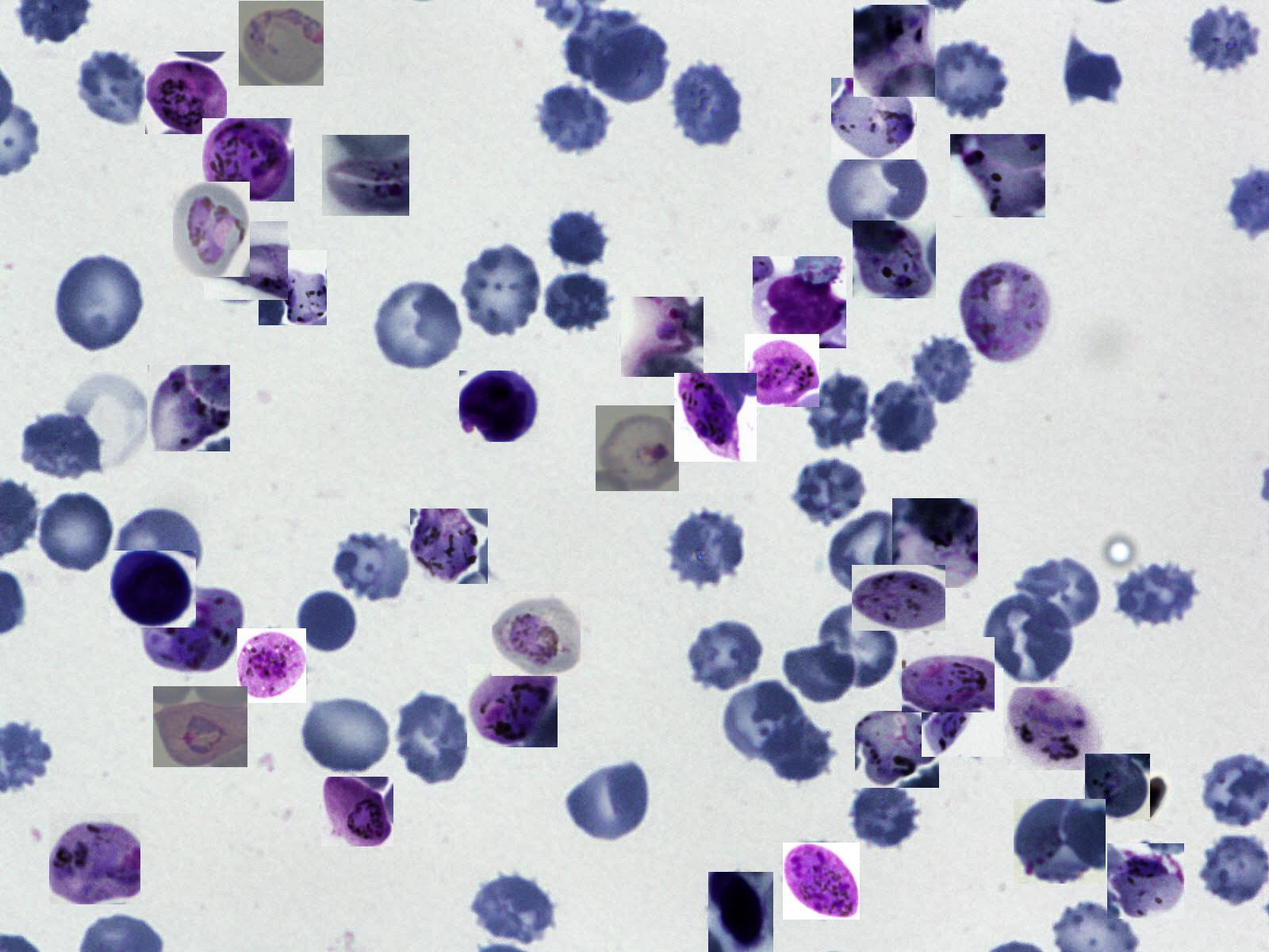Infected: (960, 259, 1052, 364), (142, 585, 246, 677), (753, 256, 846, 348), (49, 813, 140, 904), (1006, 687, 1105, 770), (950, 134, 1045, 217), (1014, 799, 1106, 884), (892, 498, 978, 588), (202, 118, 294, 202), (467, 664, 558, 747), (154, 686, 247, 767), (492, 592, 581, 676), (853, 6, 935, 97), (674, 373, 757, 462), (173, 182, 250, 277), (239, 1, 324, 86), (922, 668, 1003, 757), (596, 405, 679, 491), (148, 365, 230, 451), (322, 135, 409, 216), (902, 637, 995, 712), (831, 78, 917, 159), (145, 52, 227, 134), (621, 298, 704, 378), (204, 221, 288, 300), (110, 551, 196, 628), (855, 711, 939, 788), (853, 221, 936, 298), (852, 565, 945, 631), (783, 843, 860, 919), (1107, 843, 1184, 919), (410, 509, 488, 584), (459, 370, 539, 442), (745, 334, 819, 407), (708, 872, 773, 952), (237, 628, 306, 703), (259, 250, 327, 325), (322, 777, 394, 846), (1085, 754, 1150, 820)
Uninfected: (824, 140, 932, 236), (52, 252, 146, 354), (370, 278, 466, 374), (457, 242, 546, 340), (113, 505, 201, 601), (297, 691, 394, 777), (827, 508, 917, 598), (814, 601, 902, 693), (723, 678, 810, 767), (563, 759, 653, 845), (393, 691, 474, 786), (980, 599, 1072, 681), (925, 36, 1013, 121), (665, 504, 749, 588), (591, 24, 673, 106), (1016, 554, 1103, 631), (469, 869, 557, 945), (684, 614, 768, 693), (71, 44, 151, 126), (39, 491, 117, 574), (564, 10, 650, 85), (670, 61, 744, 146), (20, 410, 105, 483), (535, 81, 615, 158), (799, 370, 874, 450), (791, 455, 872, 528), (1114, 561, 1204, 624), (870, 380, 944, 456), (907, 333, 980, 407), (1197, 833, 1269, 906), (849, 781, 922, 852), (336, 532, 410, 601), (780, 639, 859, 703), (1188, 7, 1262, 72), (762, 720, 834, 781), (546, 265, 610, 332), (298, 588, 358, 655), (548, 202, 608, 268)
